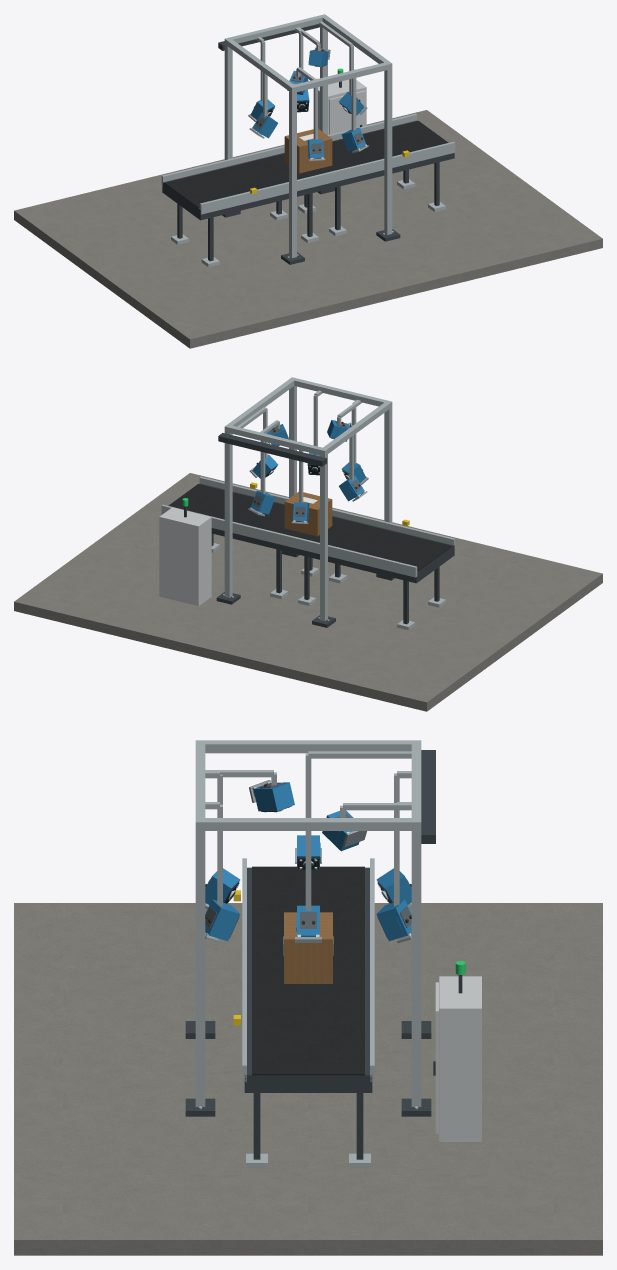
The picture shows the model from 3 angles, top to bottom: view 1: azimuth 30°, elevation 25°; view 2: azimuth 150°, elevation 25°; view 3: azimuth 270°, elevation 25°; orthographic projection. The views are drawn at different scales.
Parts seen in each view (by area): view 1: Concrete floor, Belt surface, Belt surface.001, Tunnel upright.002, Side conveyor rail, Side conveyor rail.002, Belt conveyor frame, Tunnel upright, Sample carton, Tunnel upright.001, Side conveyor rail.001, Controller door (+8 smaller); view 2: Concrete floor, Tunnel controller cabinet, Belt surface, Belt surface.001, Side conveyor rail.001, Tunnel upright.003, Belt conveyor frame, Tunnel upright.001, Sample carton, Overhead cable raceway, Tunnel upright, Side conveyor rail.003 (+8 smaller); view 3: Concrete floor, Belt surface.001, Belt surface, Tunnel controller cabinet, Belt conveyor frame.001, Tunnel upright.002, Tunnel upright.003, Tunnel crossbeam.001, Sample carton, Tunnel crossbeam, Overhead cable raceway, Belt conveyor frame (+6 smaller).
Boxes of the visible parts, <box> form: Concrete floor: <box>14,110,602,348</box>; Belt surface: <box>164,153,321,207</box>; Belt surface.001: <box>316,121,448,173</box>; Tunnel upright.002: <box>384,66,392,234</box>; Side conveyor rail: <box>199,172,328,214</box>; Side conveyor rail.002: <box>327,141,455,183</box>; Belt conveyor frame: <box>162,153,327,220</box>; Tunnel upright: <box>289,88,296,258</box>; Sample carton: <box>284,128,332,173</box>; Tunnel upright.001: <box>224,44,232,159</box>; Side conveyor rail.001: <box>161,145,284,186</box>; Controller door: <box>329,90,365,134</box>; Concrete floor: <box>14,473,602,711</box>; Tunnel controller cabinet: <box>159,507,211,606</box>; Belt surface: <box>295,516,452,570</box>; Belt surface.001: <box>168,484,300,536</box>; Side conveyor rail.001: <box>288,535,417,577</box>; Tunnel upright.003: <box>224,428,232,597</box>; Belt conveyor frame: <box>289,516,454,583</box>; Tunnel upright.001: <box>320,452,327,621</box>; Sample carton: <box>284,491,332,536</box>; Overhead cable raceway: <box>218,433,326,466</box>; Tunnel upright: <box>384,404,392,522</box>; Side conveyor rail.003: <box>161,504,289,546</box>; Concrete floor: <box>14,903,602,1255</box>; Belt surface.001: <box>252,970,364,1075</box>; Belt surface: <box>252,866,364,970</box>; Tunnel controller cabinet: <box>439,976,481,1141</box>; Belt conveyor frame.001: <box>244,971,372,1092</box>; Tunnel upright.002: <box>195,825,205,1106</box>; Tunnel upright.003: <box>411,825,421,1106</box>; Tunnel crossbeam.001: <box>195,818,421,830</box>; Sample carton: <box>284,912,332,983</box>; Tunnel crossbeam: <box>195,740,421,753</box>; Overhead cable raceway: <box>421,750,435,843</box>; Belt conveyor frame: <box>247,867,369,971</box>.
Size of the model in its own units: 6.5 by 2.75 by 4.8.
Materials: 17 (3 with a texture image).
